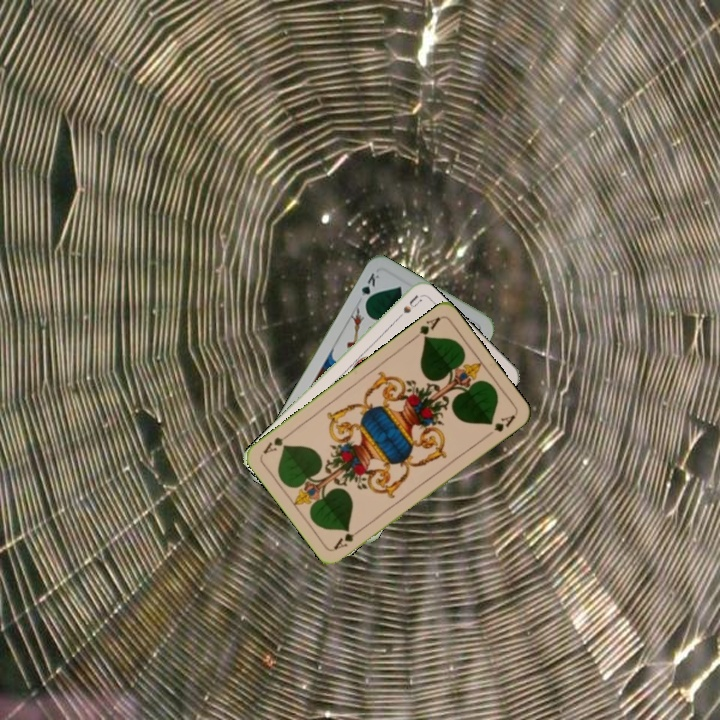GA: (408, 312, 443, 343), (330, 523, 365, 552)
GK: (354, 268, 383, 308)
SU: (390, 291, 423, 325)
